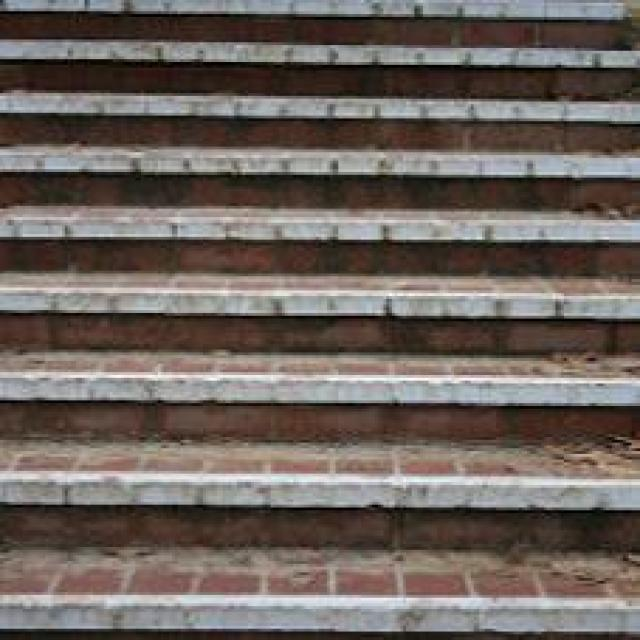upstair: (13, 136, 605, 565)
